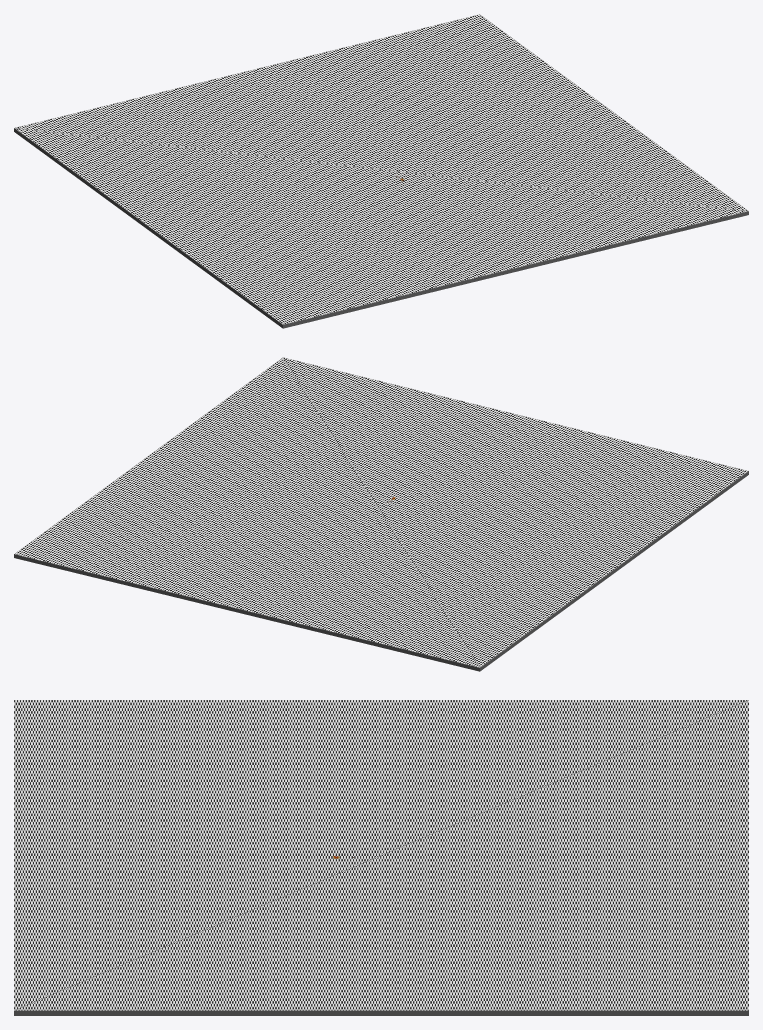
The model's file is santa.gltf.
The picture shows the model from 3 angles, top to bottom: view 1: azimuth 30°, elevation 25°; view 2: azimuth 150°, elevation 25°; view 3: azimuth 270°, elevation 25°; orthographic projection. The views are drawn at different scales.
Parts seen in each view (by area): view 1: Texture, Baseplate; view 2: Texture, Baseplate; view 3: Texture, Baseplate.
Part boxes in pixels (x1,y1,x2,y2): Texture: (14,14,748,324); Baseplate: (14,128,748,328); Texture: (14,357,748,667); Baseplate: (14,471,748,671); Texture: (14,700,748,1010); Baseplate: (14,1010,748,1015).
Bounding box in the file's own units: 2048 × 23.56 × 2048.
9 materials, 2 textured.
